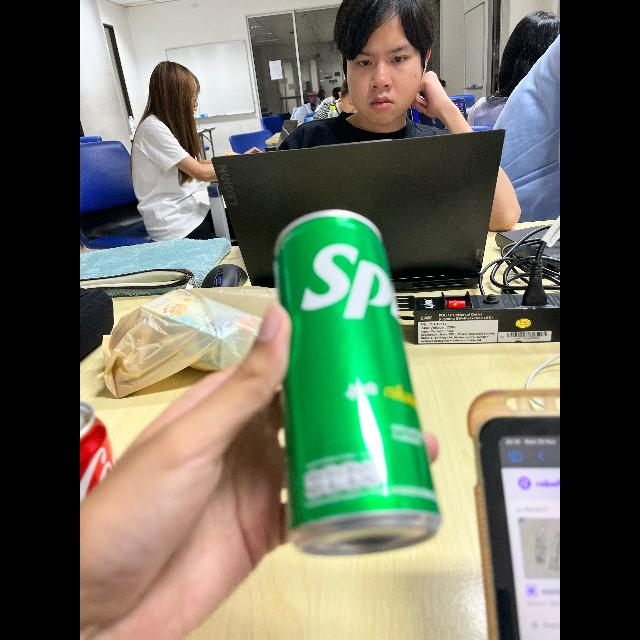can: (273, 193, 453, 564)
